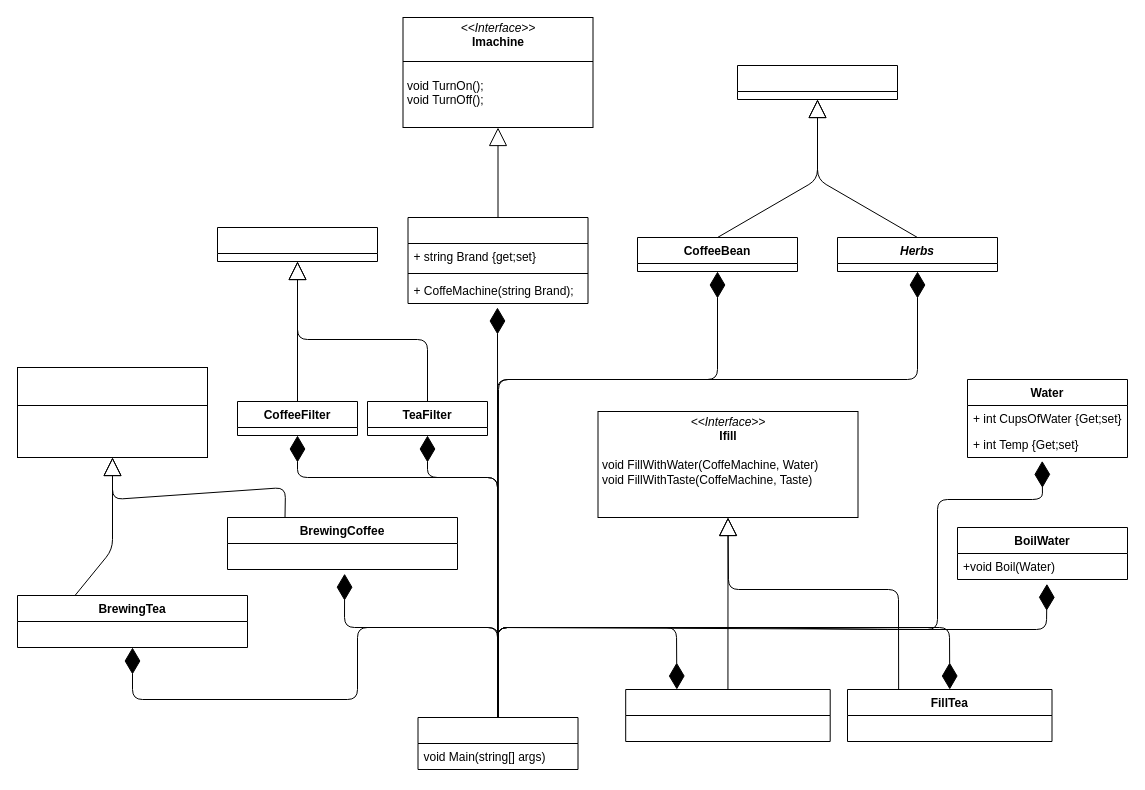
Some shapes in this 1145 by 790 pixel diagram are drawn without their labels. Each missing label, with the box of its shape:
<<Interface>> Ibrew void Brew(CoffeMachine, Water): (16, 366, 208, 458)
CoffeeMachine: (407, 216, 588, 304)
FillCoffee: (625, 688, 830, 742)
Filter: (216, 226, 378, 262)
Program: (417, 716, 578, 770)
Taste: (736, 64, 898, 100)
